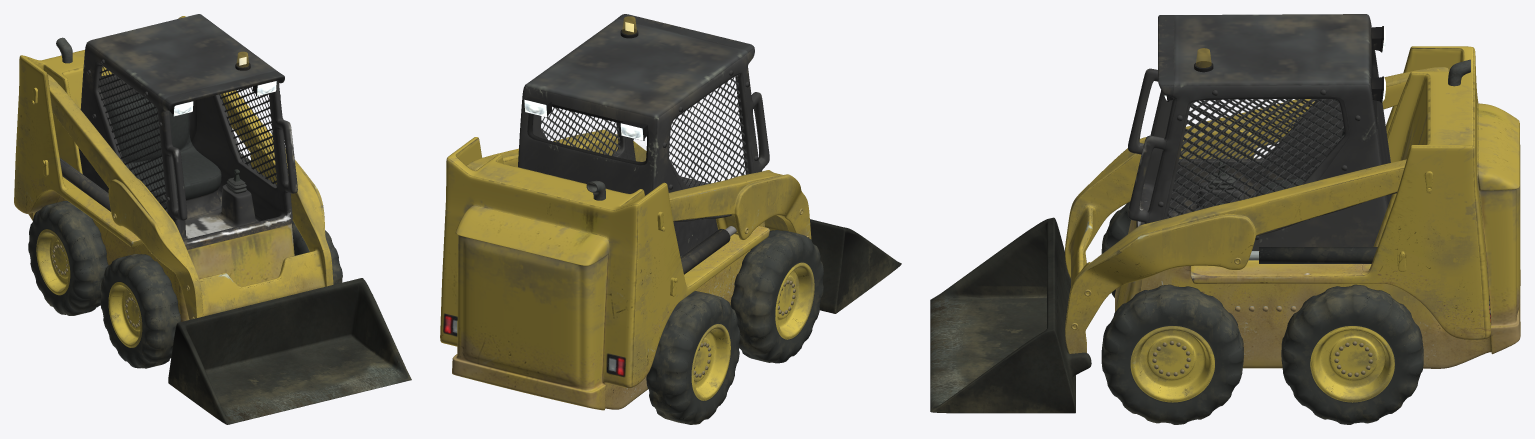
The model's file is loader.glb.
3 renders of one model, left to right at view 1: azimuth 30°, elevation 25°; view 2: azimuth 150°, elevation 25°; view 3: azimuth 270°, elevation 25°, orthographic. The views are drawn at different scales.
Parts seen in each view (by area): view 1: Body, Bucket, lift arms, wheel Ft R, wheel Bk R, Plane.002, Plane.001, wheel Ft L; view 2: Body, wheel Ft R, wheel Bk R, lift arms, Bucket, Plane.002, Plane.001; view 3: Body, lift arms, Bucket, wheel Bk L, wheel Ft L, Plane.001, Plane.002, wheel Ft R.
Boxes of the visible parts, x1=… form: Body: x1=14, y1=14, x2=297, y2=321; Bucket: x1=168, y1=278, x2=411, y2=424; lift arms: x1=47, y1=74, x2=333, y2=319; wheel Ft R: x1=100, y1=254, x2=180, y2=368; wheel Bk R: x1=28, y1=201, x2=108, y2=315; Plane.002: x1=98, y1=65, x2=167, y2=210; Plane.001: x1=219, y1=86, x2=276, y2=186; wheel Ft L: x1=292, y1=220, x2=342, y2=284; Body: x1=440, y1=14, x2=769, y2=410; wheel Ft R: x1=730, y1=230, x2=823, y2=363; wheel Bk R: x1=646, y1=291, x2=740, y2=424; lift arms: x1=466, y1=129, x2=811, y2=274; Bucket: x1=810, y1=219, x2=901, y2=313; Plane.002: x1=669, y1=75, x2=748, y2=188; Plane.001: x1=541, y1=107, x2=620, y2=155; Body: x1=1115, y1=14, x2=1520, y2=368; lift arms: x1=1065, y1=67, x2=1449, y2=353; Bucket: x1=930, y1=217, x2=1091, y2=413; wheel Bk L: x1=1281, y1=284, x2=1423, y2=424; wheel Ft L: x1=1101, y1=284, x2=1243, y2=424; Plane.001: x1=1167, y1=99, x2=1344, y2=217; Plane.002: x1=1179, y1=99, x2=1317, y2=160; wheel Ft R: x1=1101, y1=202, x2=1130, y2=297.
Bounding box in the file's own units: 2.03 × 2.69 × 4.24.
8 materials, 6 textured.
